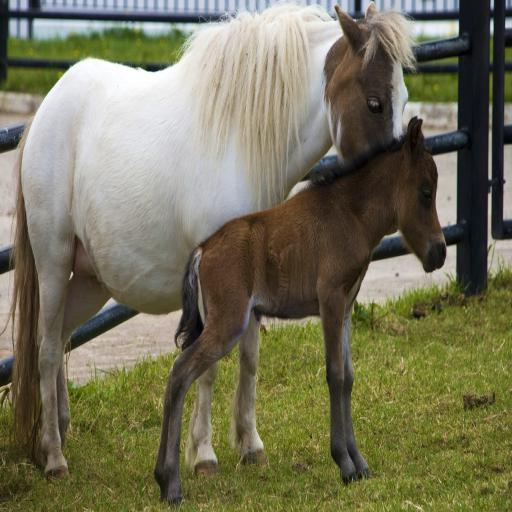horse: (0, 3, 420, 484), (150, 110, 446, 500)
